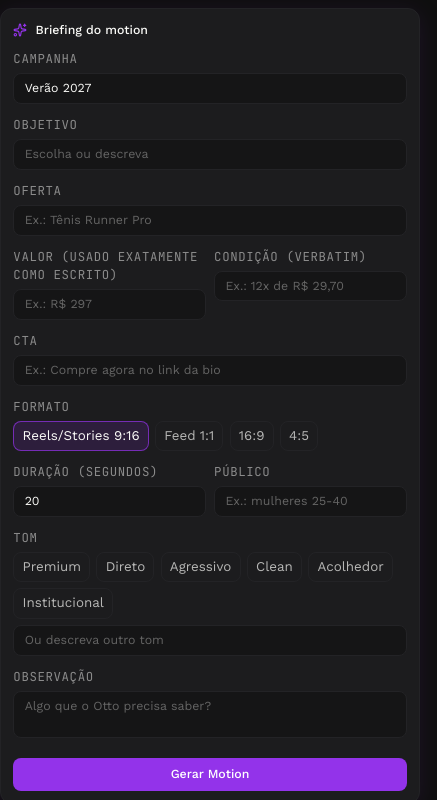
Test case: MotionBriefCard montado › falha no POST mostra erro e mantém o formulário aberto
Click the submit button at (210, 774), box x1=13 y1=758 x2=407 y2=791
(page scrolled)
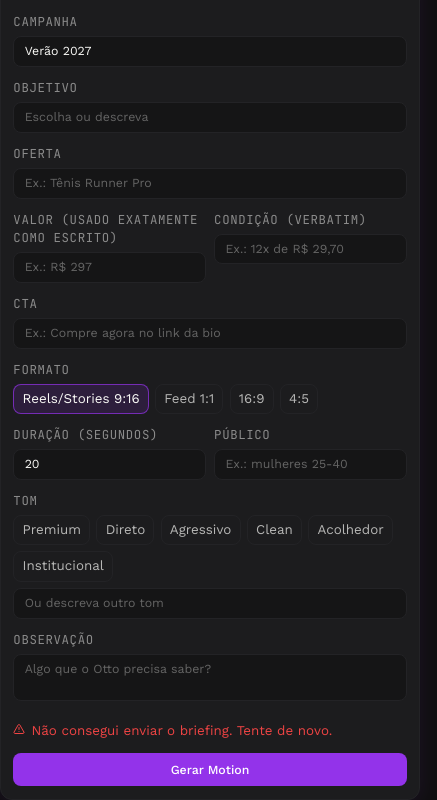
Now the text "Não consegui enviar o briefing" is shown, box x1=32 y1=723 x2=332 y2=738
